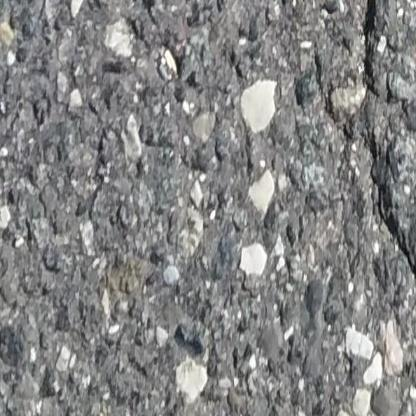Cracks: (361, 136, 416, 294), (356, 0, 390, 105)
